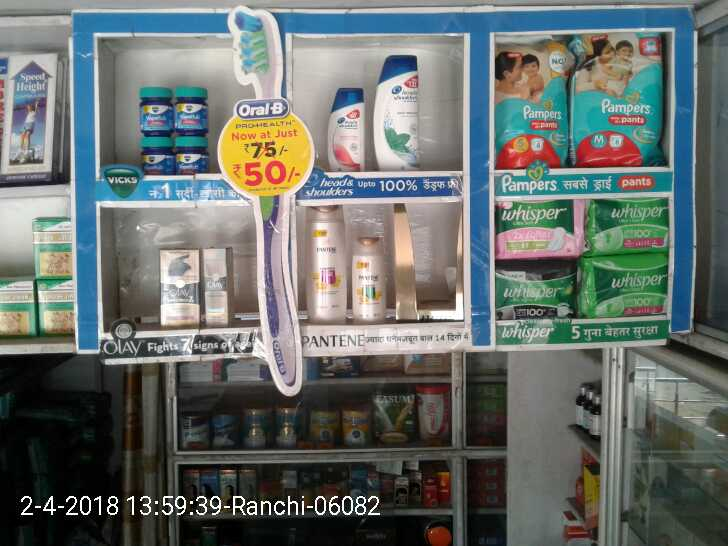vicks: (174, 86, 208, 133), (137, 85, 171, 131), (174, 133, 207, 171), (142, 137, 172, 168)
